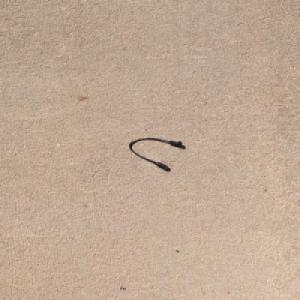Wire: (128, 136, 186, 170)
